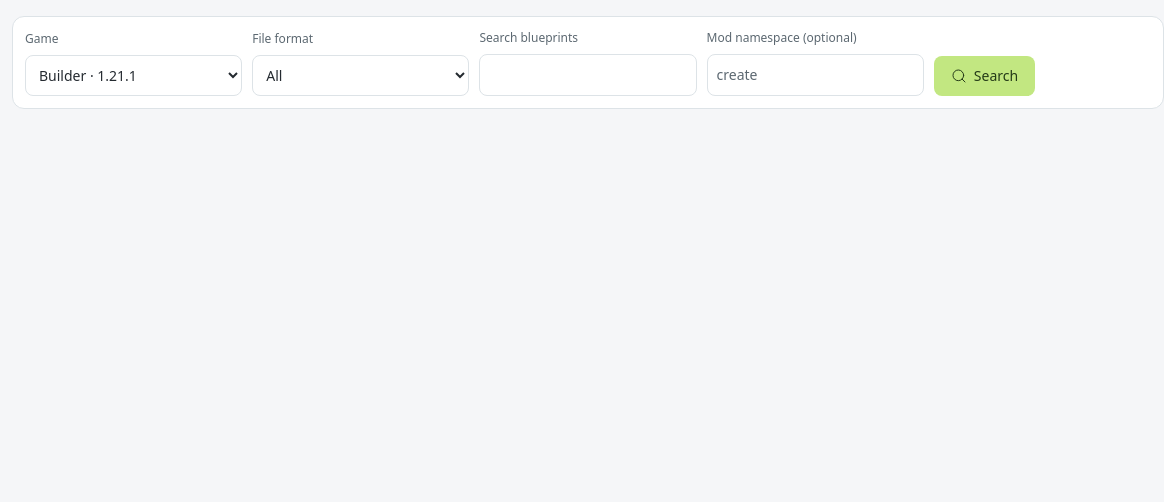
Test: binds search to a registered game and preserves visible release and missing license information
The image size is (1164, 502).
Type "盆栽 & q=other" into the search field labelled "Search blueprints".
click(588, 75); type("盆栽 & q=other")  # box [479,54,697,96]
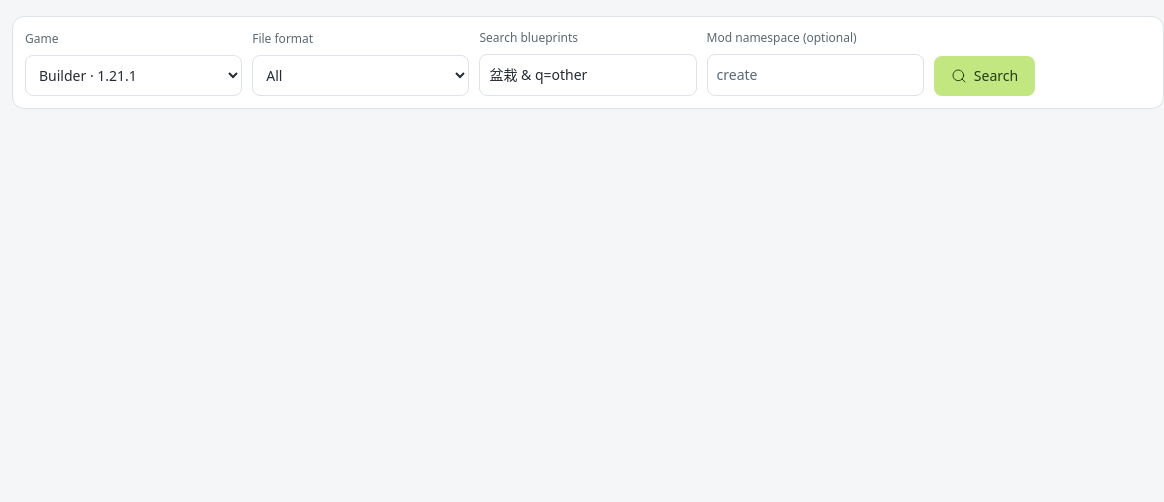
Submit the form, box [12,16,1163,109]
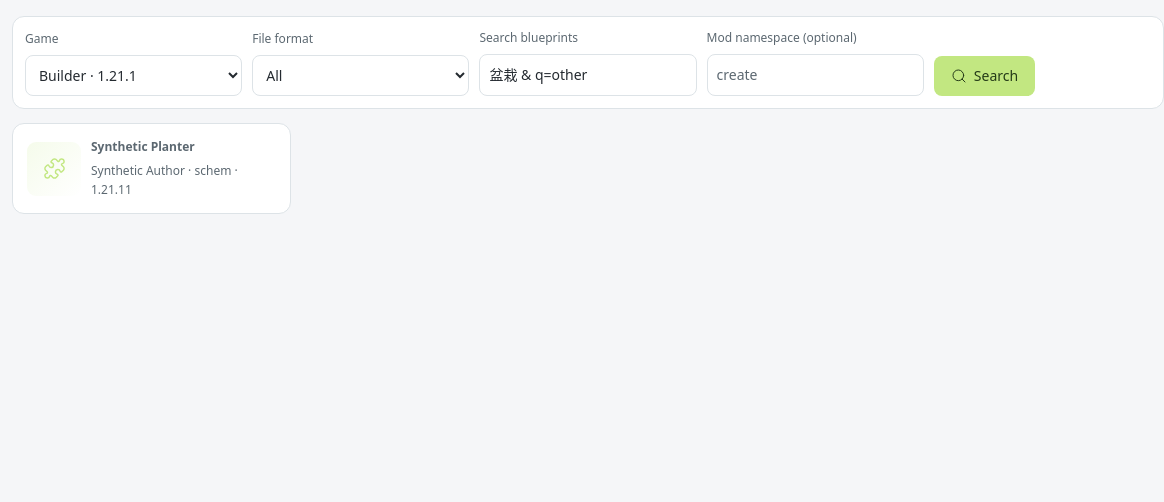
Result: the text "1.21.11" is shown at [91,162,238,198]
Click the button "Synthetic Planter Synthetic Author · schem · 1.21.11".
click(152, 169)  # box [23,134,280,203]
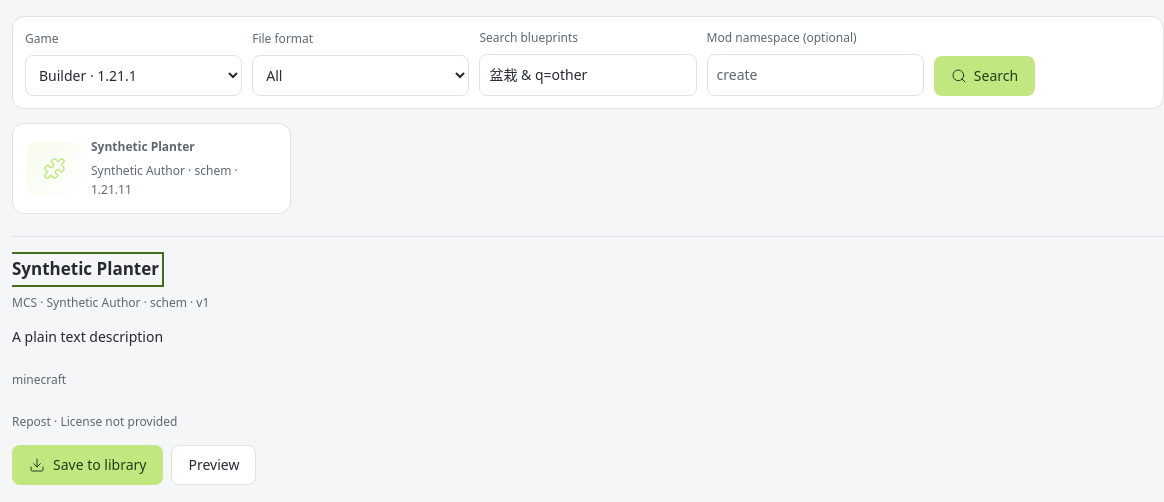
Result: the element with class "online-detail" shows "Repost · License not provided" at [12,413,177,430]
